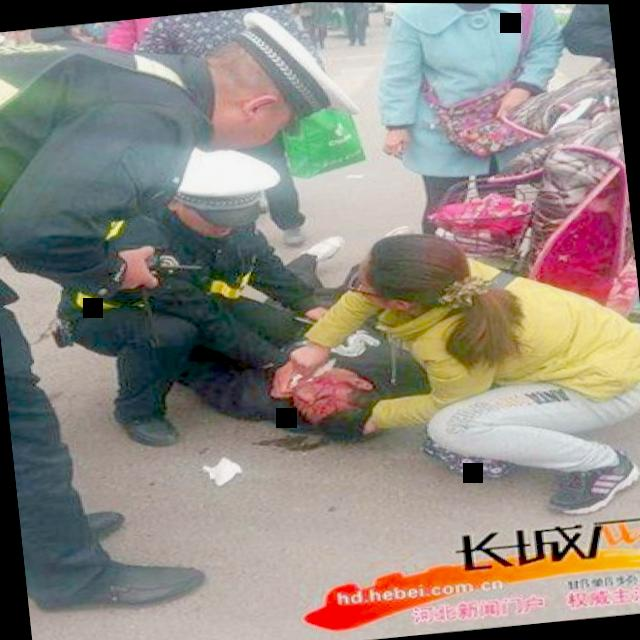Fall-Detected: (185, 220, 422, 462)
